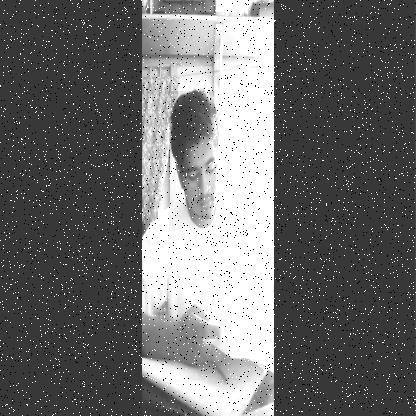Normal: (169, 91, 227, 231)
